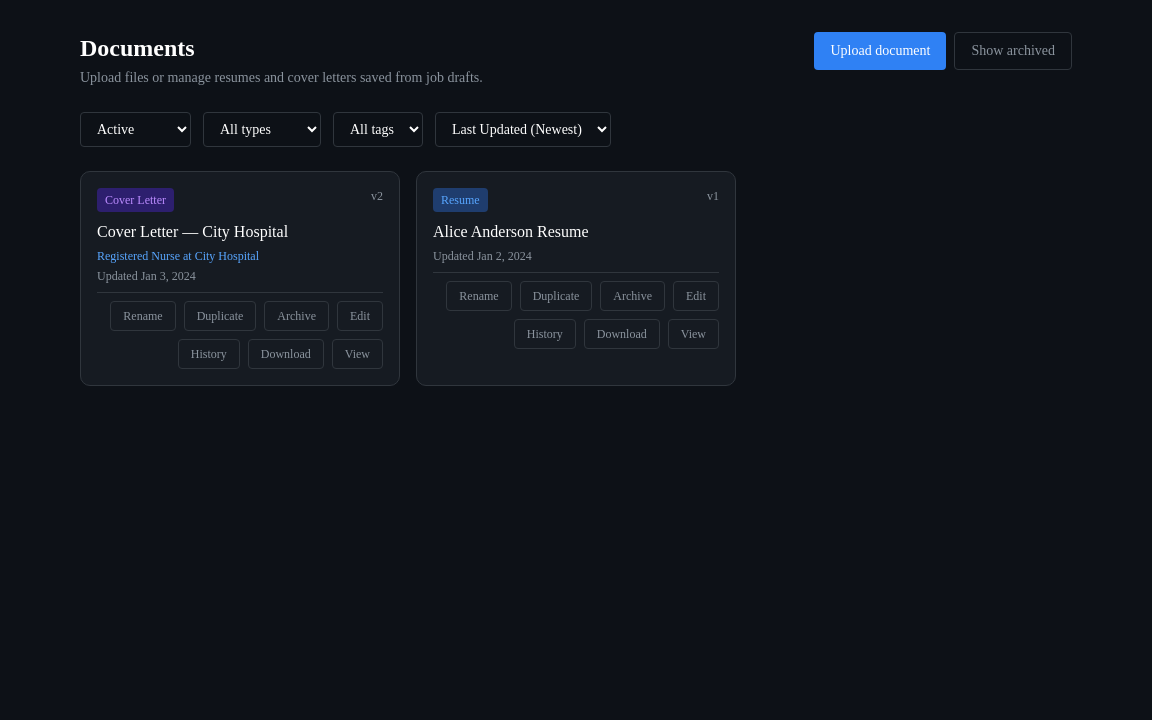
Test: DocumentsPage - S3-001 Document Library List View › opens modal with document content when View is clicked
Expected: the heading "Alice Anderson Resume" is shown, left=433, top=223, right=588, bottom=240
Click the button with test id "document-view-button" below "Jan 2, 2024". click: click(693, 334)
box: left=668, top=319, right=719, bottom=349
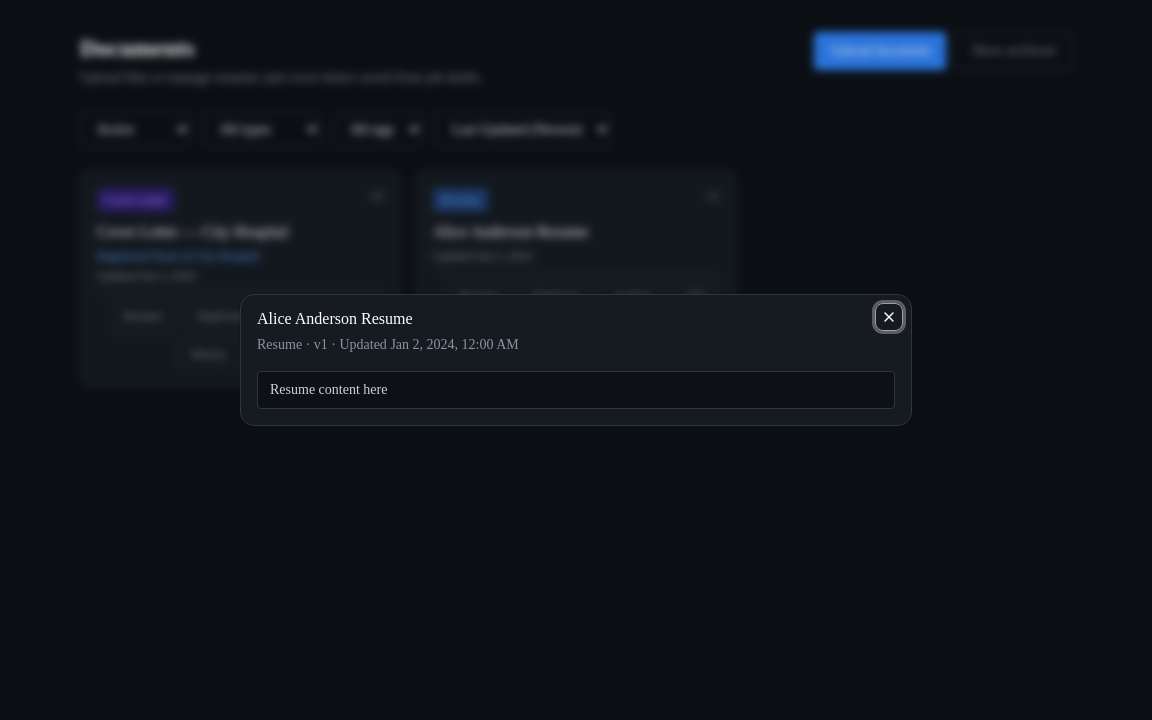
Expected: the text "Resume content here" is shown, left=257, top=371, right=895, bottom=409
